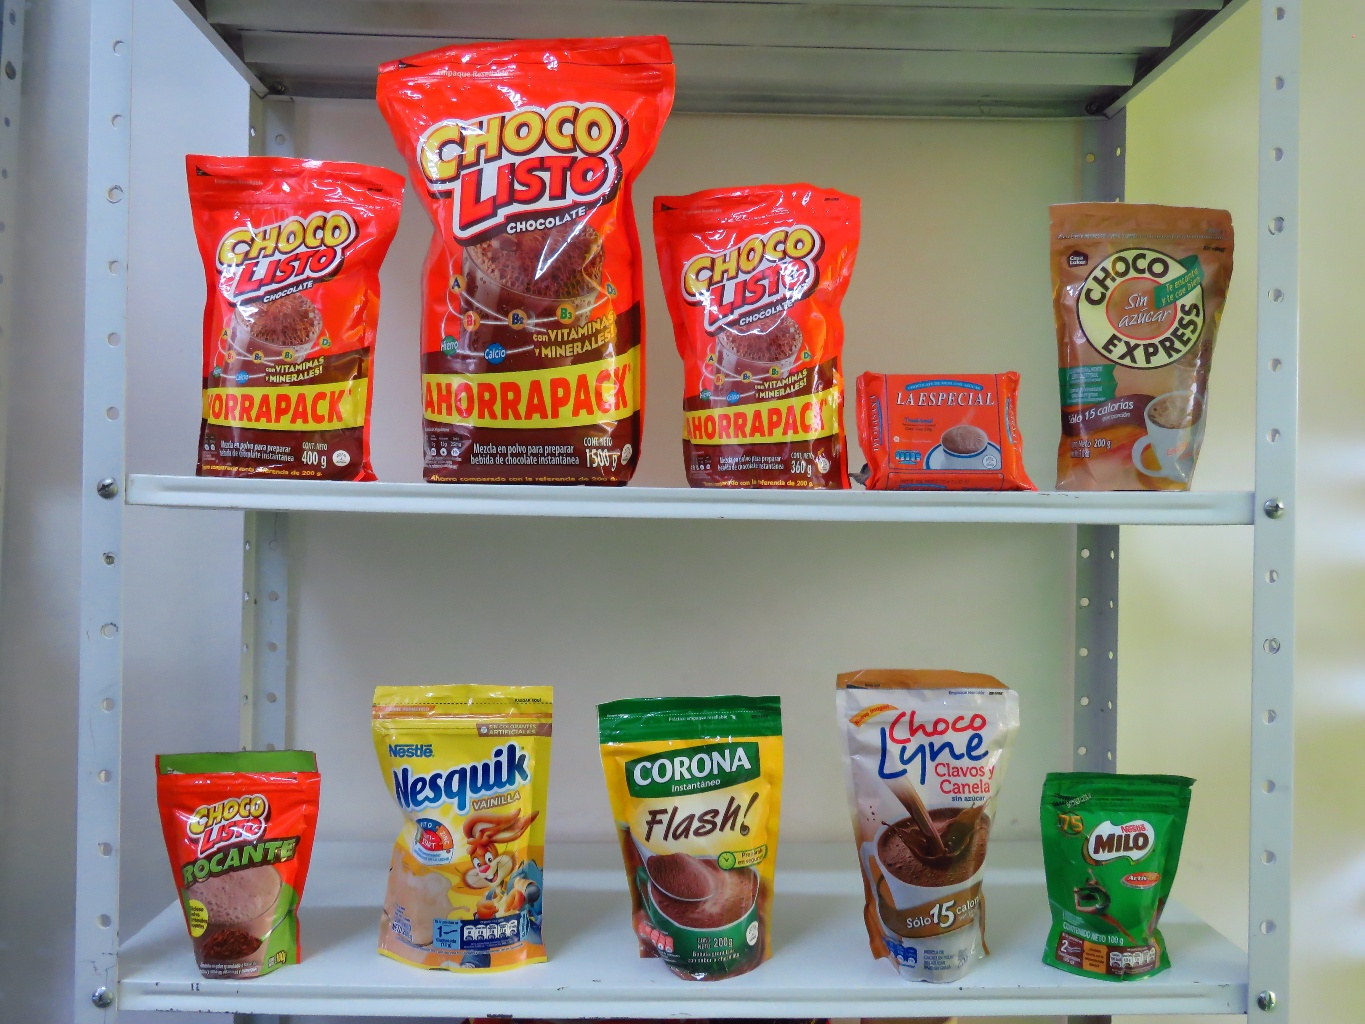COL0170102DYP10000: (151, 755, 328, 977)
COL0170103DYP1,500: (369, 38, 676, 488)
COL0170103DYP36000: (648, 186, 855, 490)
COL0170103DYP40000: (182, 151, 396, 481)
COL0170203DYP10000: (1046, 769, 1199, 982)
COL0170306DYP20000: (374, 682, 555, 973)
